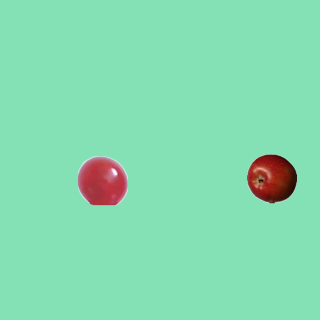Apple Braeburn: (246, 153, 296, 203)
Redcurrant: (77, 155, 127, 205)
